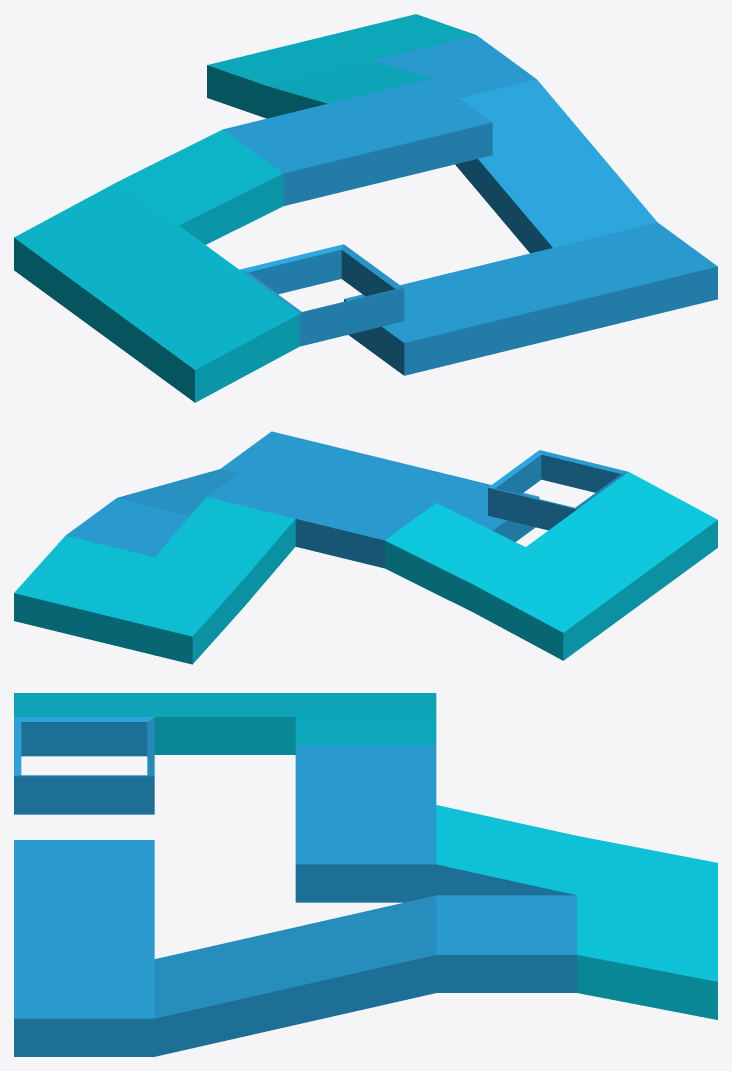
The model's file is model_map_08.fbx.
The picture shows the model from 3 angles, top to bottom: view 1: azimuth 30°, elevation 25°; view 2: azimuth 150°, elevation 25°; view 3: azimuth 270°, elevation 25°; orthographic projection. The views are drawn at different scales.
Parts seen in each view (by area): view 1: col, lvl; view 2: col, lvl; view 3: col, lvl.
Part boxes in pixels (x1=…): col: x1=14, y1=14, x2=717, y2=369; lvl: x1=14, y1=65, x2=717, y2=402; col: x1=14, y1=431, x2=717, y2=636; lvl: x1=14, y1=454, x2=717, y2=664; col: x1=14, y1=693, x2=717, y2=1018; lvl: x1=14, y1=717, x2=717, y2=1056.
Size of the model in its own units: 1000 by 208 by 1000.
